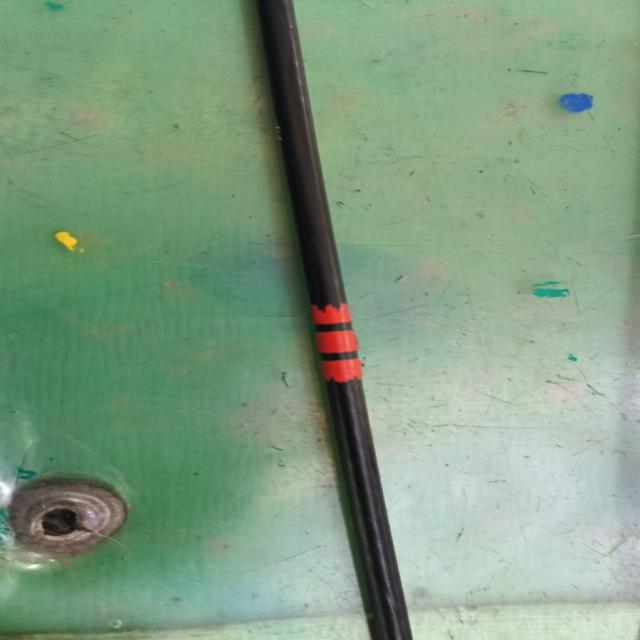red: (309, 304, 369, 386)
